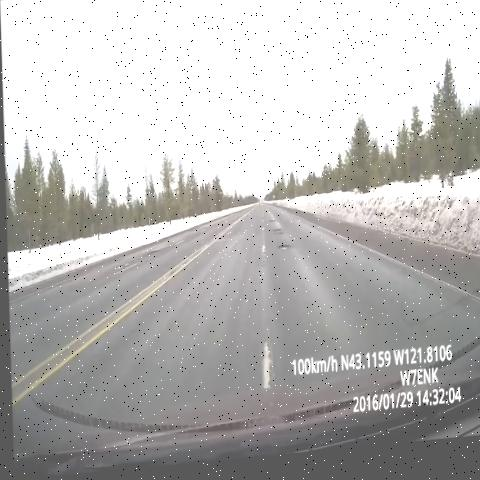pothole: (106, 253, 130, 281), (144, 251, 166, 262), (274, 246, 291, 260), (165, 243, 187, 252), (271, 232, 285, 242), (265, 222, 278, 231)
